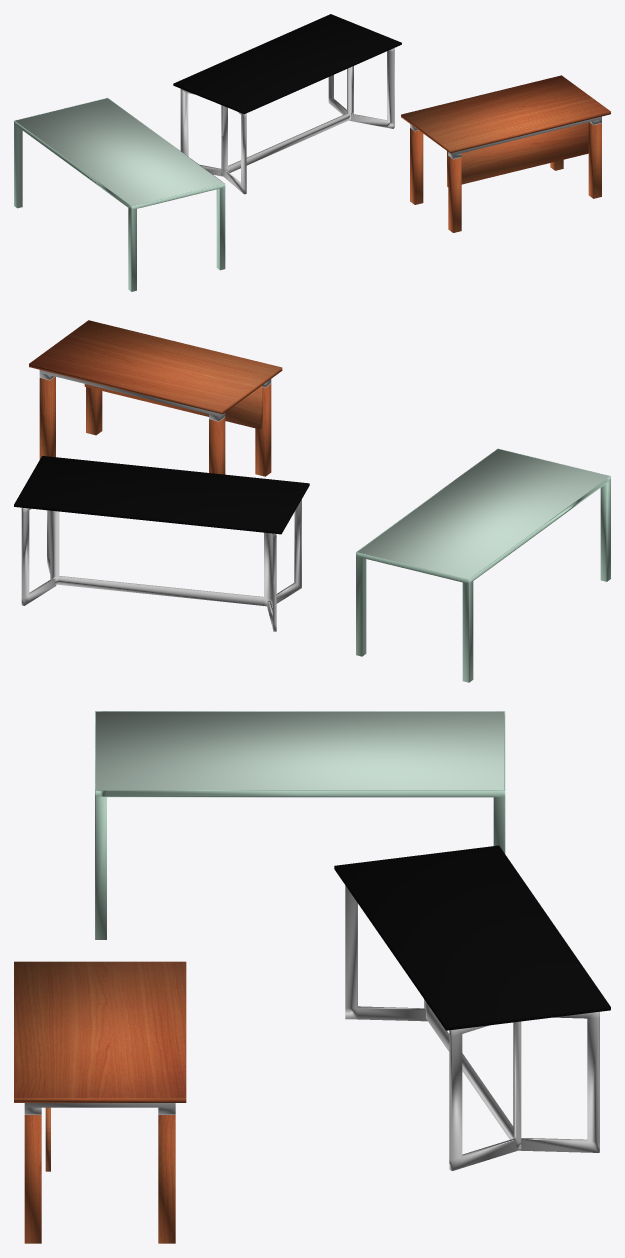
File: office_tables.glb
3 renders of one model, top to bottom at view 1: azimuth 30°, elevation 25°; view 2: azimuth 150°, elevation 25°; view 3: azimuth 270°, elevation 25°, orthographic. The views are drawn at different scales.
Visible parts, largest first — view 1: mesa_oficina_Cube.008, mesa_oficina.003_Cube.114, Cristal_mesaPija_Cube.026, Patas_mesaPija_Cube.025, soporte_mesa_Cube.004; view 2: mesa_oficina_Cube.008, mesa_oficina.003_Cube.114, Cristal_mesaPija_Cube.026, Patas_mesaPija_Cube.025, soporte_mesa_Cube.004; view 3: mesa_oficina.003_Cube.114, mesa_oficina_Cube.008, Cristal_mesaPija_Cube.026, Patas_mesaPija_Cube.025, soporte_mesa_Cube.004.
Part boxes in pixels (bbox=[...]): mesa_oficina_Cube.008: bbox=[401, 75, 610, 232]; mesa_oficina.003_Cube.114: bbox=[15, 98, 224, 206]; Cristal_mesaPija_Cube.026: bbox=[173, 14, 401, 114]; Patas_mesaPija_Cube.025: bbox=[180, 48, 394, 194]; soporte_mesa_Cube.004: bbox=[14, 98, 225, 291]; mesa_oficina_Cube.008: bbox=[29, 320, 282, 476]; mesa_oficina.003_Cube.114: bbox=[357, 449, 609, 579]; Cristal_mesaPija_Cube.026: bbox=[14, 456, 309, 534]; Patas_mesaPija_Cube.025: bbox=[21, 499, 301, 631]; soporte_mesa_Cube.004: bbox=[356, 448, 610, 682]; mesa_oficina.003_Cube.114: bbox=[96, 711, 504, 790]; mesa_oficina_Cube.008: bbox=[14, 961, 186, 1243]; Cristal_mesaPija_Cube.026: bbox=[334, 845, 610, 1030]; Patas_mesaPija_Cube.025: bbox=[345, 885, 599, 1170]; soporte_mesa_Cube.004: bbox=[95, 711, 505, 939].
Size of the model in its own units: 4.29 by 0.7751 by 2.79.
Materials: 5 (1 with a texture image).
